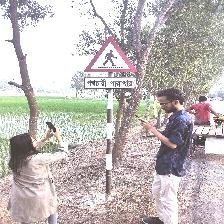Pedestrian-crossing: (82, 38, 138, 91)
